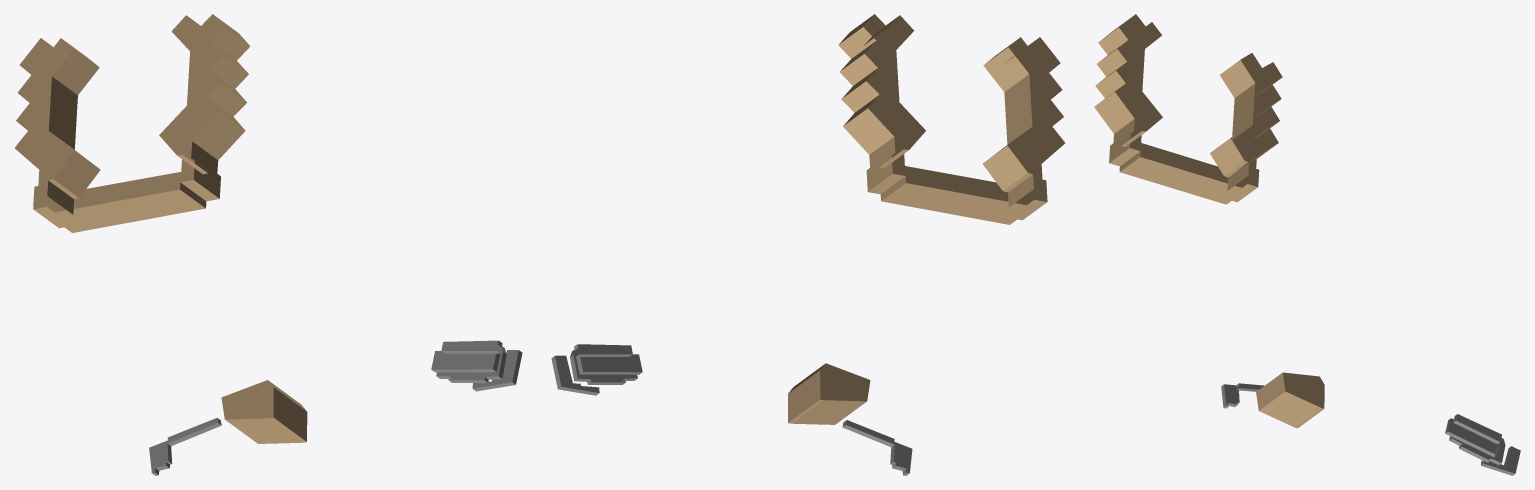
3 views of the same model, side by side, from view 1: azimuth 30°, elevation 25°; view 2: azimuth 150°, elevation 25°; view 3: azimuth 330°, elevation 25° (orthographic). The views are drawn at different scales.
Visible parts, largest first — view 1: 0_3_2_0_2_1; view 2: 0_3_2_0_2_1; view 3: 0_3_2_0_2_1.
Part boxes in pixels (x1,y1,x2,y2): 0_3_2_0_2_1: (15, 14, 522, 475); 0_3_2_0_2_1: (551, 14, 1065, 475); 0_3_2_0_2_1: (1094, 14, 1520, 475).
Size of the model in its own units: 236 by 206 by 27.2.
